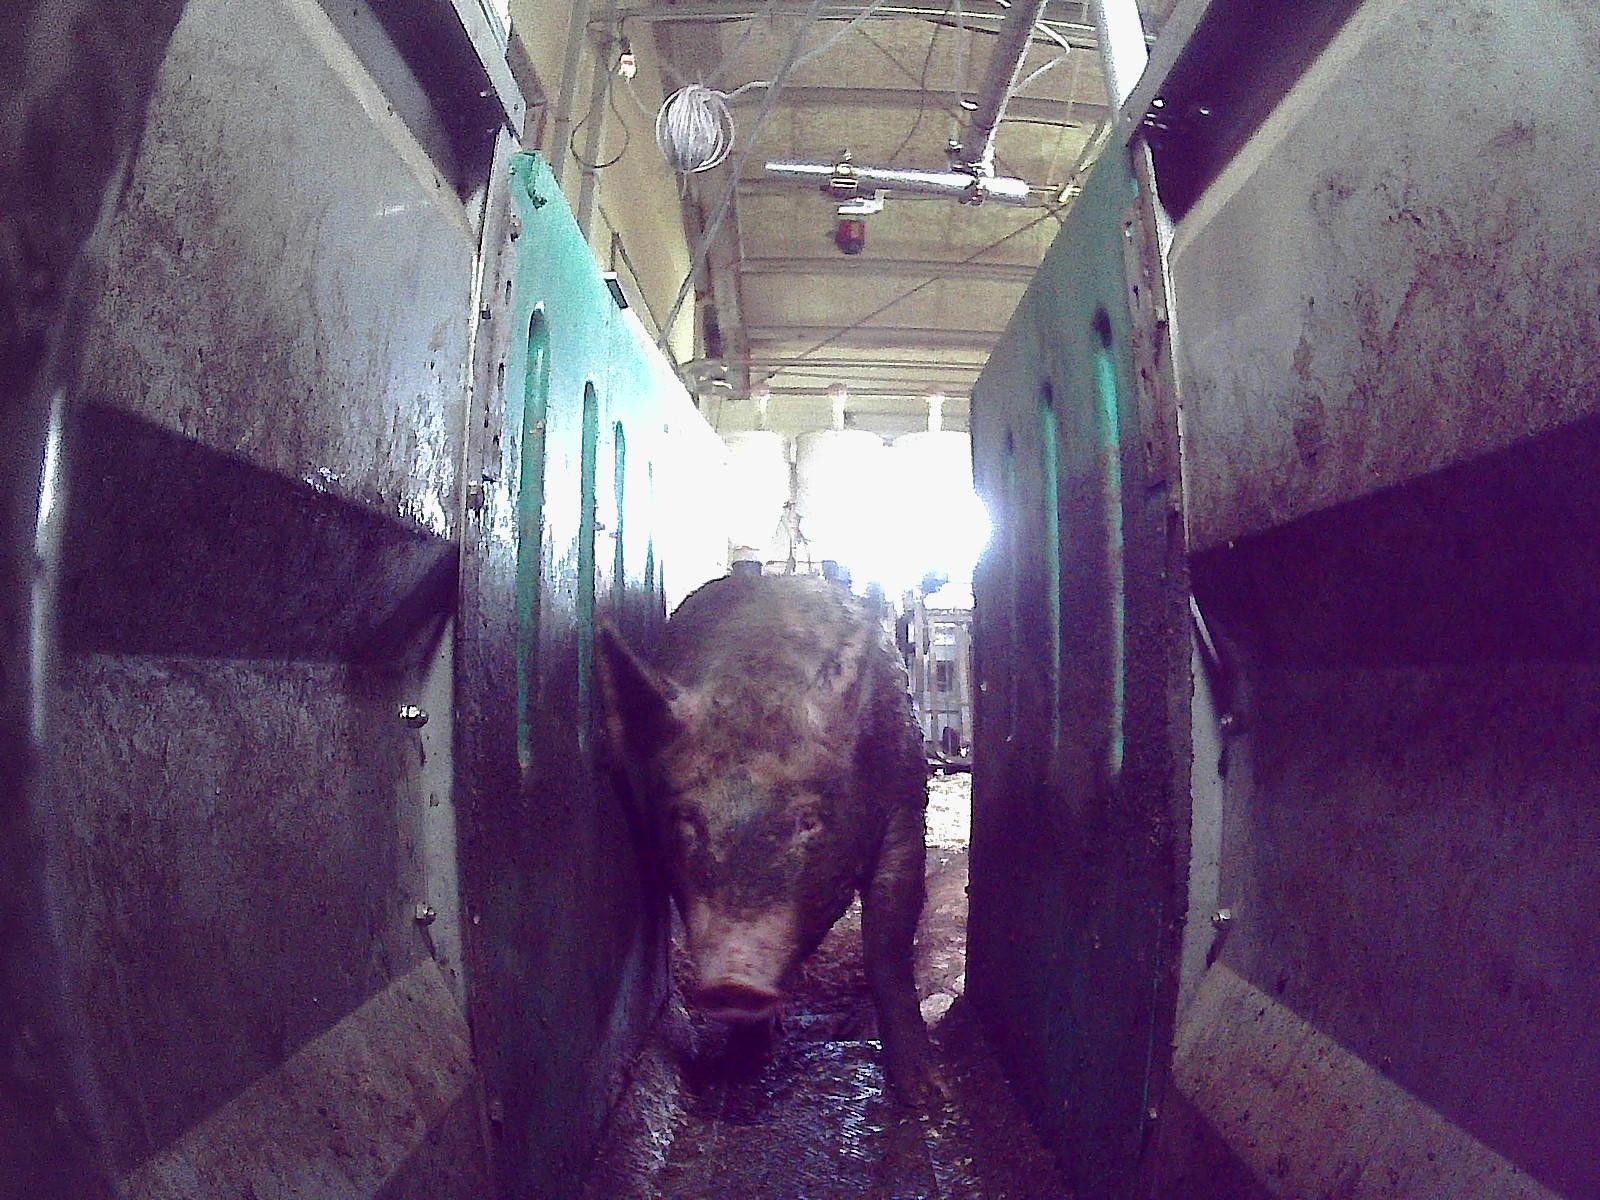Face: (655, 704, 850, 1019)
